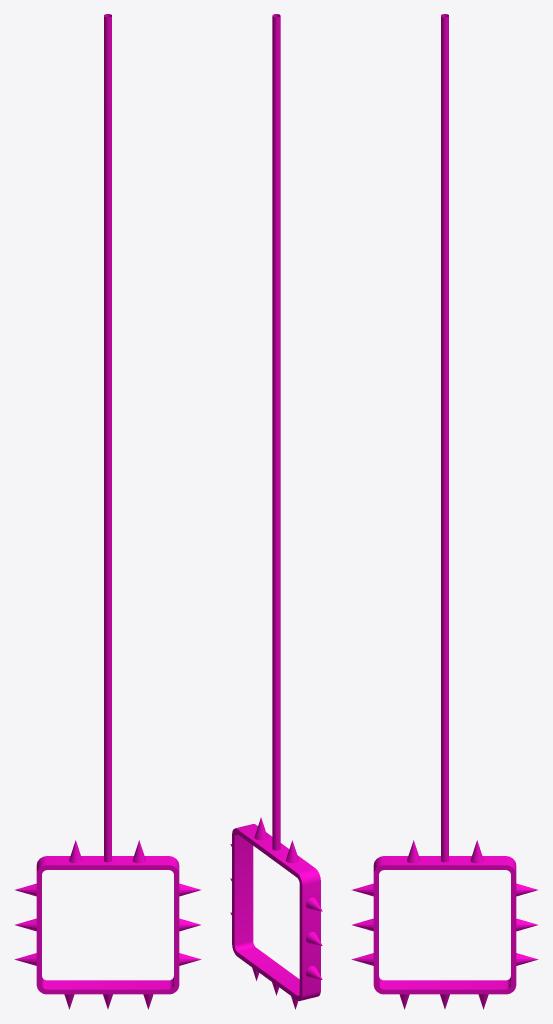
The model's file is cutter5_cube.fbx.
The picture shows the model from 3 angles, left to right: view 1: azimuth 90°, elevation 25°; view 2: azimuth 210°, elevation 25°; view 3: azimuth 270°, elevation 25°; orthographic projection.
Visible parts, largest first — view 1: Cutter5_Cube; view 2: Cutter5_Cube; view 3: Cutter5_Cube.
Part boxes in pixels (x1=…): Cutter5_Cube: x1=14, y1=14, x2=201, y2=1009; Cutter5_Cube: x1=230, y1=14, x2=322, y2=1009; Cutter5_Cube: x1=351, y1=14, x2=538, y2=1009.
Size of the model in its own units: 16.5 by 831 by 142.
